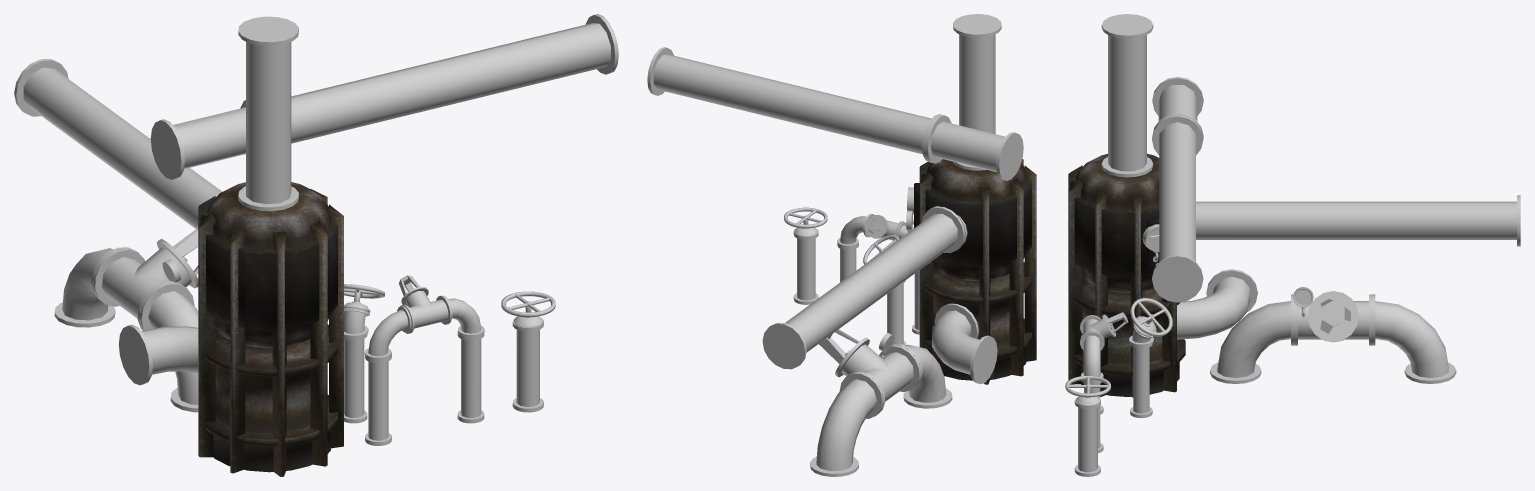
Rendered from compressor.DAE.
3 views of the same model, side by side, from view 1: azimuth 30°, elevation 25°; view 2: azimuth 150°, elevation 25°; view 3: azimuth 270°, elevation 25° (orthographic). The views are drawn at different scales.
Parts seen in each view (by area): view 1: Box363, Box362, Box364; view 2: Box363, Box362, Box364, Box365; view 3: Box363, Box362, Box364, Box365.
Boxes of the visible parts, bbox=[...] form: Box363: bbox=[23, 23, 610, 440]; Box362: bbox=[198, 182, 343, 476]; Box364: bbox=[14, 14, 618, 445]; Box363: bbox=[653, 34, 1005, 471]; Box362: bbox=[914, 159, 1036, 384]; Box364: bbox=[647, 14, 1023, 476]; Box365: bbox=[879, 187, 913, 357]; Box363: bbox=[1065, 35, 1516, 472]; Box362: bbox=[1068, 153, 1185, 397]; Box364: bbox=[1074, 14, 1520, 476]; Box365: bbox=[1142, 224, 1313, 317].
Bounding box in the file's own units: 5.42 × 5.82 × 4.94.
